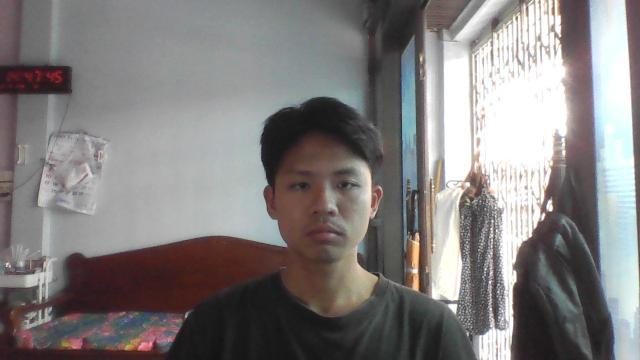fokus: (273, 126, 374, 259)
